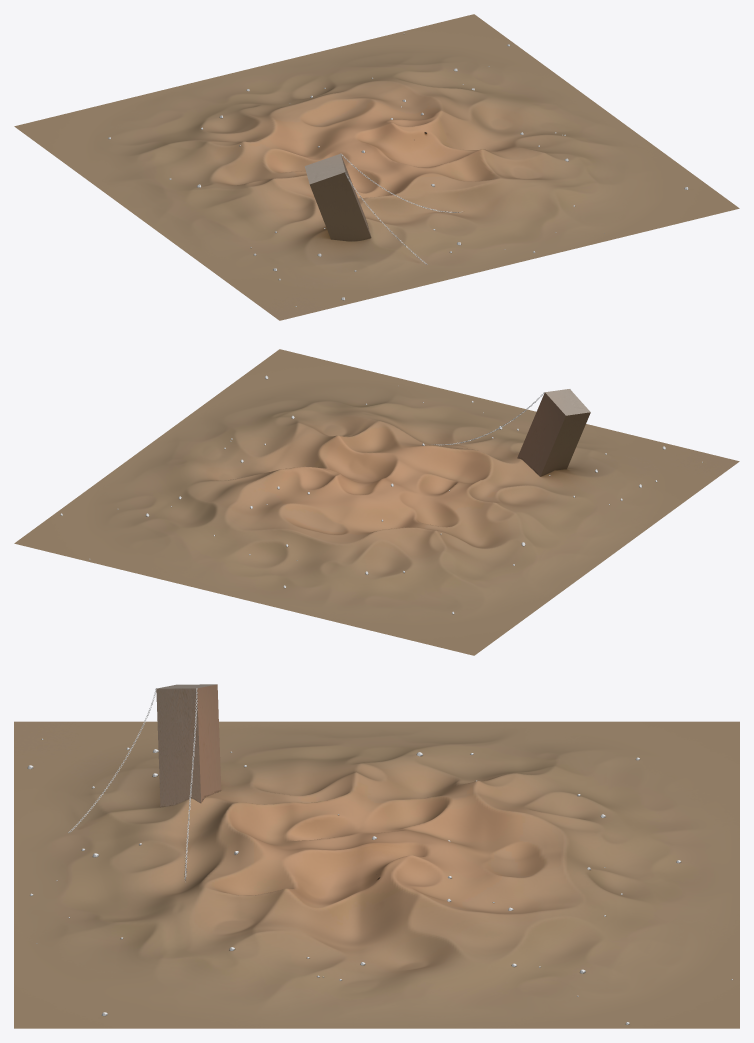
File: dunes.gltf
3 views of the same model, one above another, from view 1: azimuth 30°, elevation 25°; view 2: azimuth 150°, elevation 25°; view 3: azimuth 270°, elevation 25° (orthographic). The views are drawn at different scales.
Parts seen in each view (by area): view 1: Landscape.009, Cube; view 2: Landscape.009, Cube; view 3: Landscape.009, Cube.
Part boxes in pixels (x1=…): Landscape.009: x1=14, y1=14, x2=739, y2=320; Cube: x1=304, y1=154, x2=371, y2=241; Landscape.009: x1=14, y1=349, x2=739, y2=655; Cube: x1=517, y1=389, x2=590, y2=476; Landscape.009: x1=14, y1=721, x2=739, y2=1028; Cube: x1=156, y1=684, x2=221, y2=807.
Bounding box in the file's own units: 75 × 18.92 × 75.
Materials: 3 (2 with a texture image).
